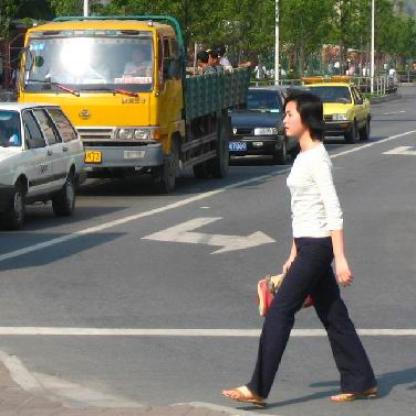person: (219, 93, 382, 406)
